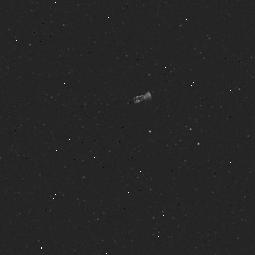debris: (130, 88, 156, 108)
